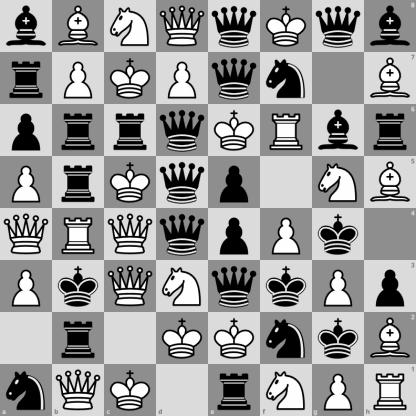B: (364, 156, 416, 209), (364, 52, 416, 104), (364, 312, 416, 364), (53, 1, 104, 52)
K: (104, 364, 156, 416), (105, 53, 156, 104), (105, 157, 156, 208), (157, 313, 208, 364), (209, 105, 260, 156), (209, 313, 260, 364), (261, 1, 312, 52)
N: (260, 364, 312, 416), (105, 1, 156, 52), (157, 261, 208, 312), (313, 157, 364, 208)
P: (312, 364, 364, 416), (1, 157, 52, 208), (1, 261, 52, 312), (53, 53, 104, 104), (157, 53, 208, 104), (261, 209, 312, 260), (313, 261, 364, 312)
Q: (52, 364, 104, 416), (1, 209, 52, 260), (105, 209, 156, 260), (105, 261, 156, 312), (157, 1, 208, 52)
R: (364, 364, 416, 416), (53, 209, 104, 260), (261, 105, 312, 156)
b: (364, 0, 416, 52), (1, 1, 52, 52), (313, 105, 364, 156)
board: (0, 0, 415, 415)
k: (53, 261, 104, 312), (261, 261, 312, 312), (313, 209, 364, 260), (313, 313, 364, 364)
n: (0, 364, 52, 416), (261, 53, 312, 104), (261, 313, 312, 364)
p: (364, 260, 416, 312), (1, 105, 52, 156), (209, 157, 260, 208), (209, 209, 260, 260)
q: (157, 105, 208, 156), (157, 157, 208, 208), (157, 209, 208, 260), (209, 1, 260, 52), (209, 53, 260, 104), (209, 261, 260, 312), (313, 1, 364, 52)
r: (364, 104, 416, 156), (209, 364, 260, 416), (1, 53, 52, 104), (53, 105, 104, 156), (53, 157, 104, 208), (53, 313, 104, 364), (105, 105, 156, 156)
